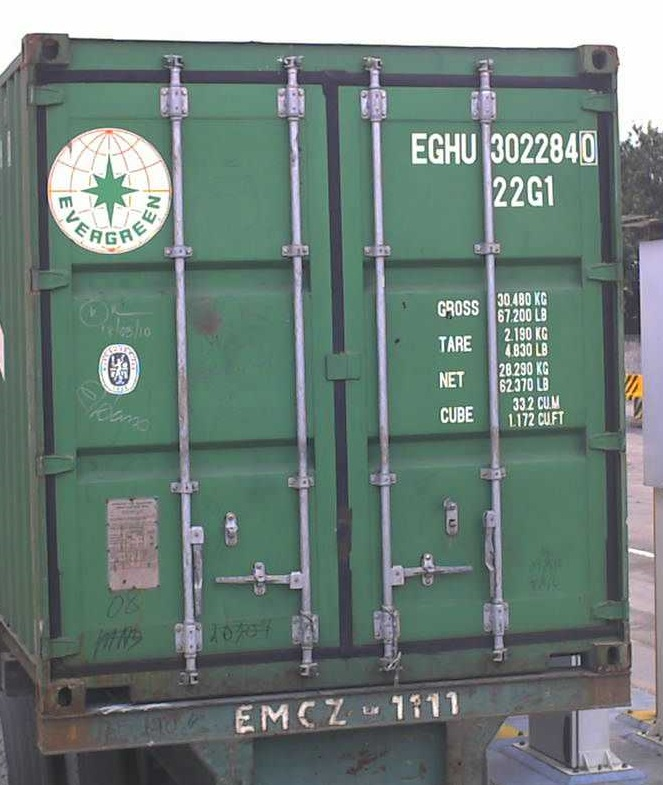container_door: (20, 20, 634, 724)
